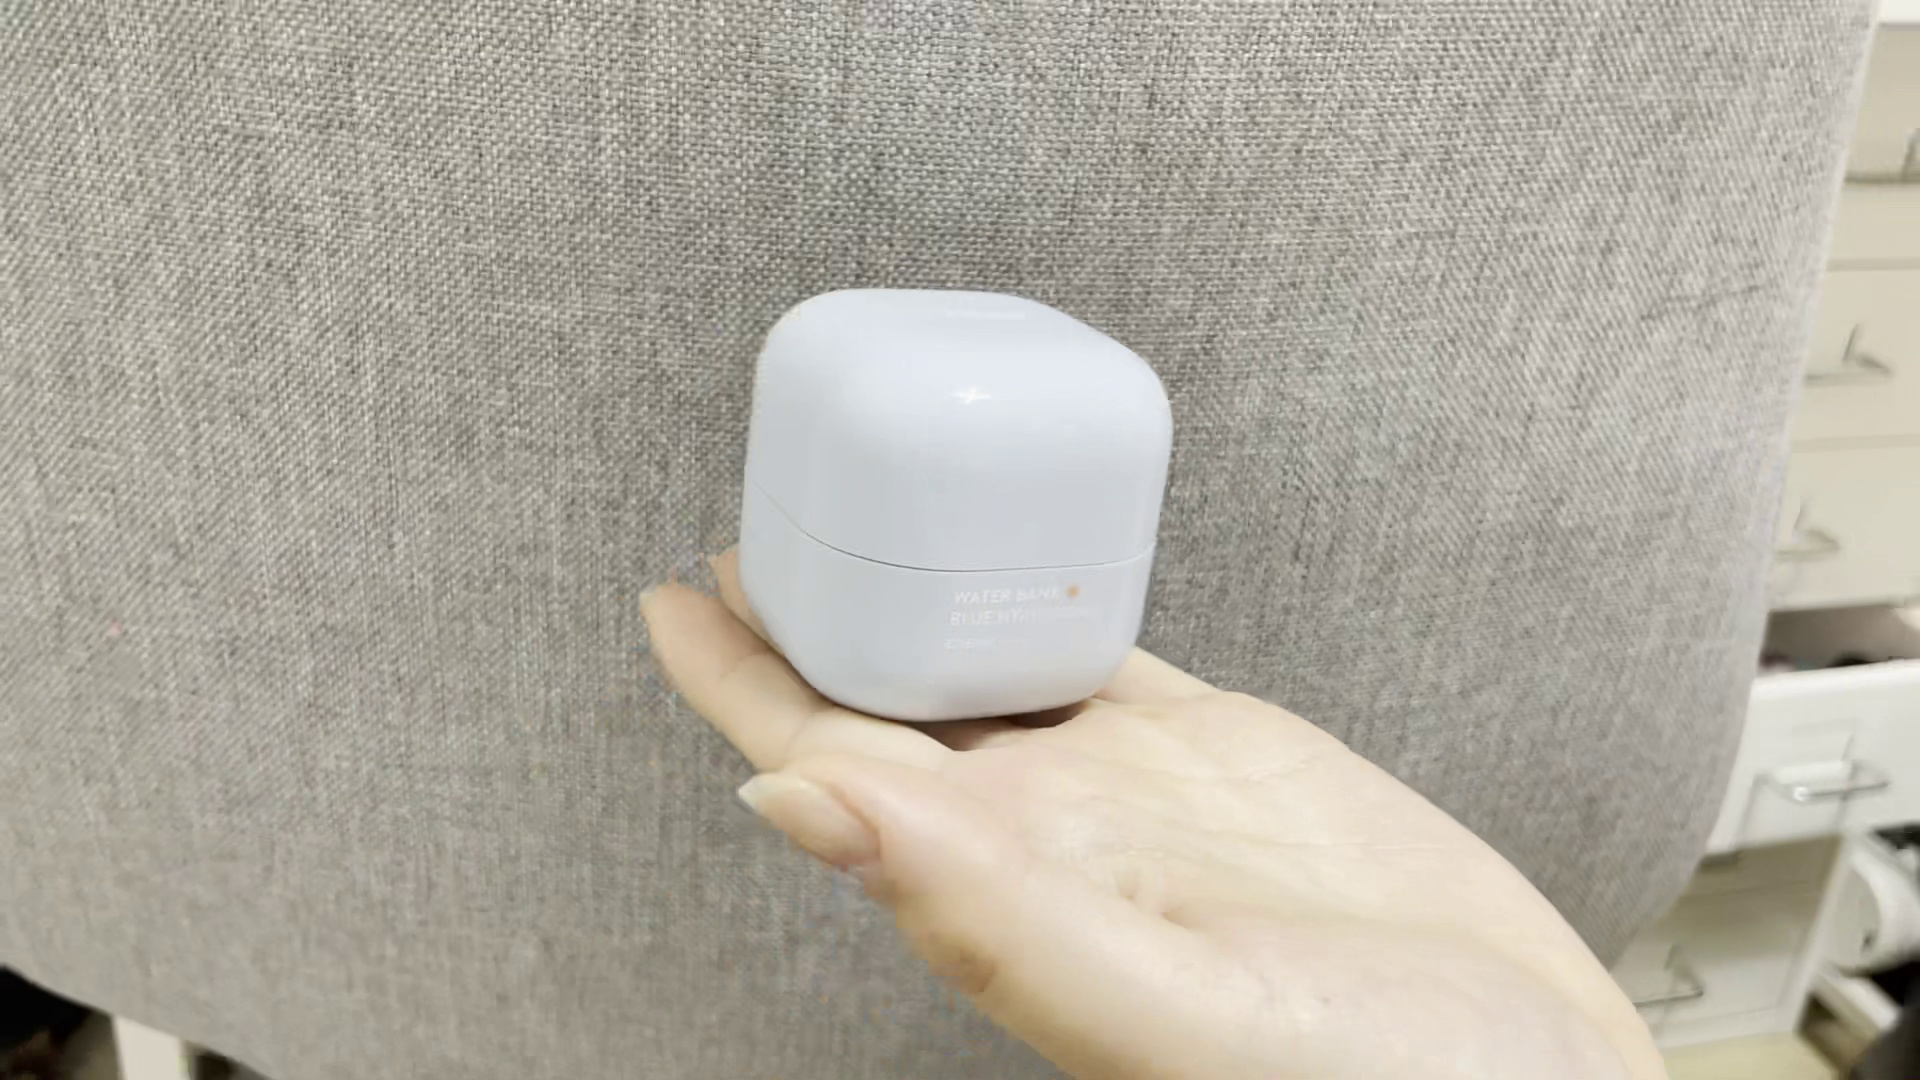cream: (742, 290, 1172, 716)
